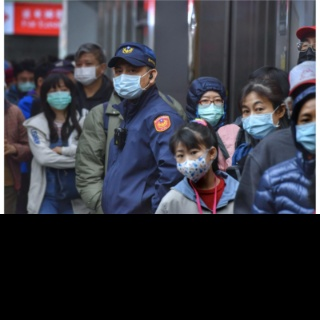with_mask: (240, 99, 277, 140), (112, 64, 148, 102), (174, 148, 210, 183), (294, 108, 316, 156), (195, 93, 224, 127), (73, 57, 100, 87), (45, 84, 72, 112), (295, 37, 316, 64), (16, 76, 36, 96)
